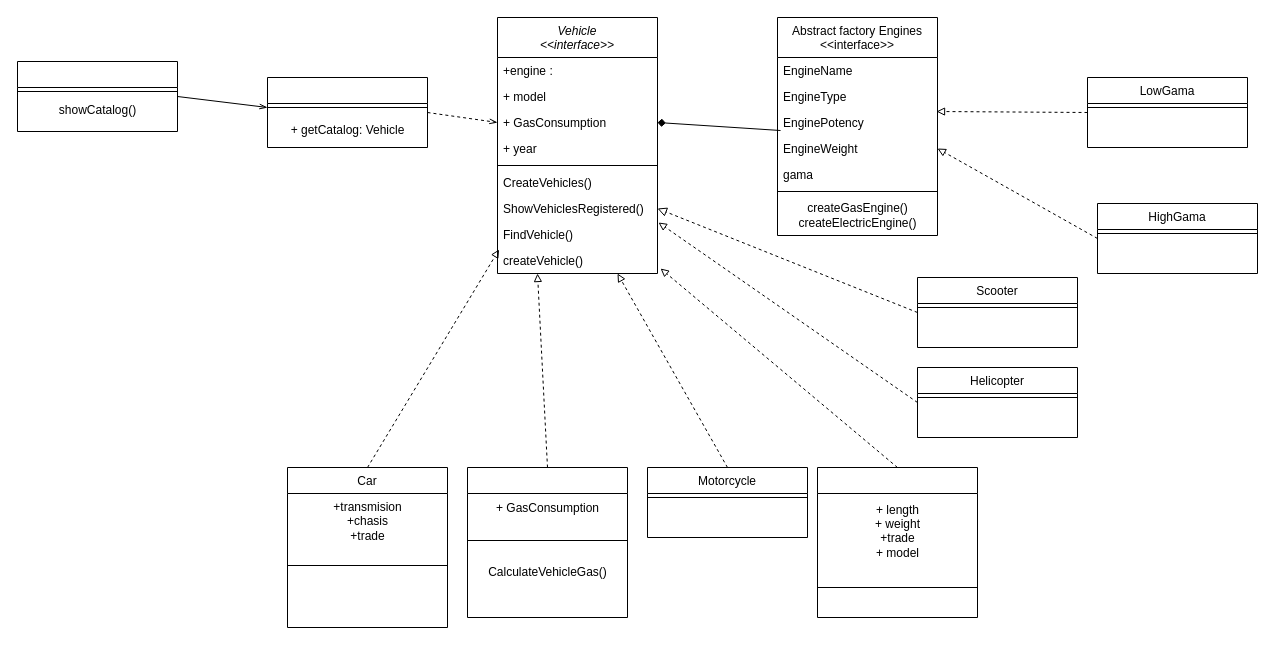
This 1275x645 diagram has some shape labels left out. Each missing label, with the box of its shape:
Cliente: (16, 60, 178, 132)
Factory - vehicle: (266, 76, 428, 148)
Truck: (466, 466, 628, 618)
Yacht: (816, 466, 978, 618)
